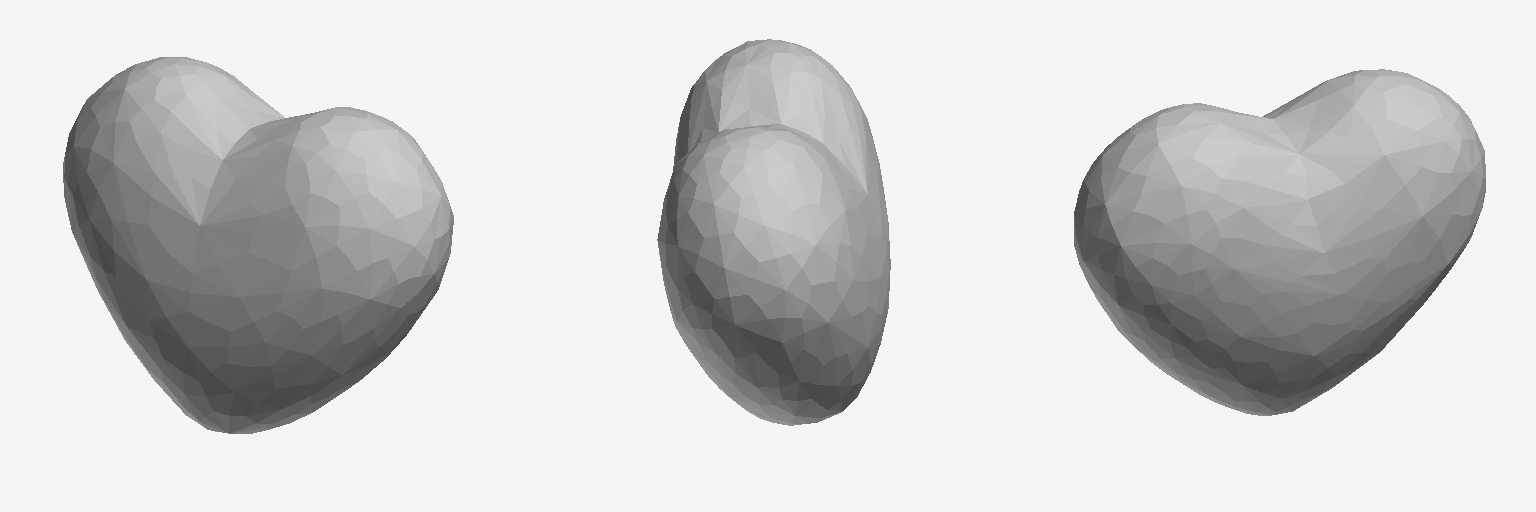
The model's file is heart.obj.
The picture shows the model from 3 angles: view 1: azimuth 30°, elevation 25°; view 2: azimuth 150°, elevation 25°; view 3: azimuth 270°, elevation 25°; orthographic projection.
Parts seen in each view (by area): view 1: Love:Love group3; view 2: Love:Love group3; view 3: Love:Love group3.
Boxes of the visible parts, x1,y1,x2,y2 form: Love:Love group3: [63, 57, 453, 433]; Love:Love group3: [657, 39, 890, 425]; Love:Love group3: [1074, 69, 1485, 415].
Size of the model in its own units: 2.05 by 2.54 by 2.91.